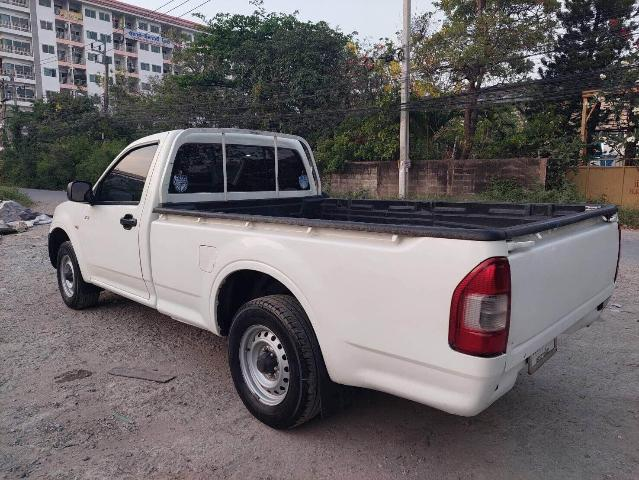pickup-truck: (38, 118, 637, 444)
